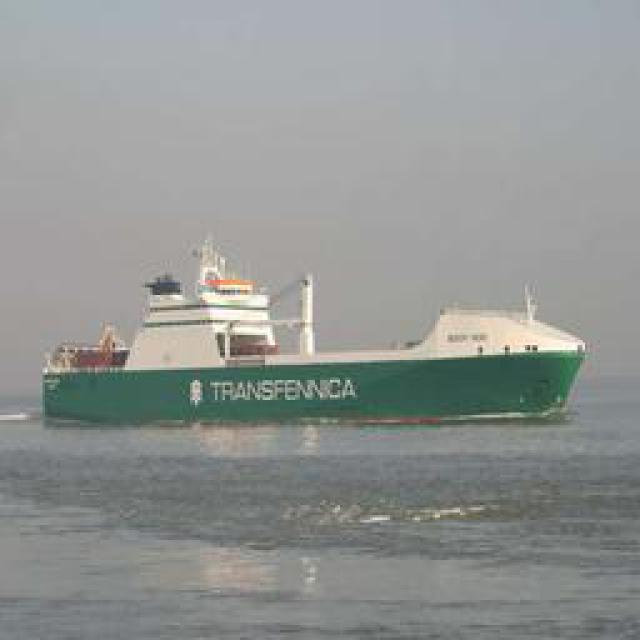Ship: (42, 278, 590, 426)
